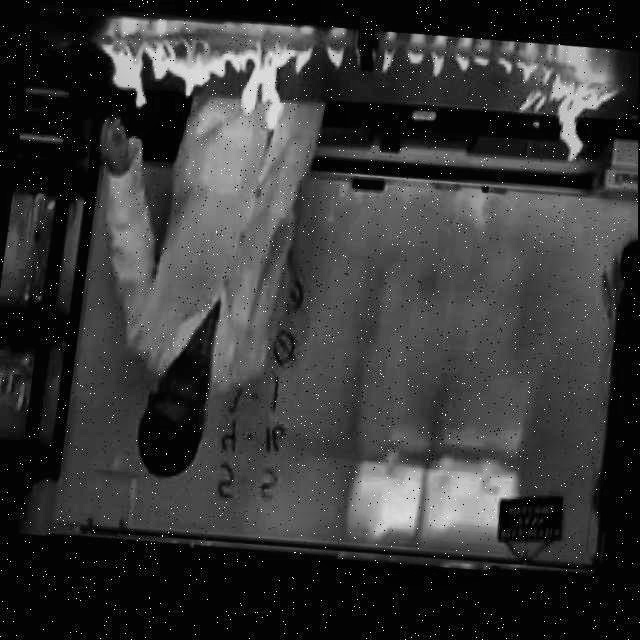Fire: (79, 19, 316, 147), (504, 55, 623, 180)
